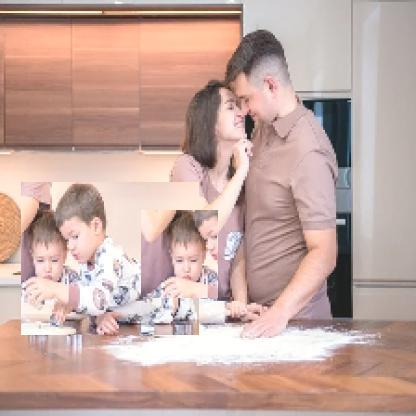child: (22, 183, 201, 337), (142, 211, 220, 300)
